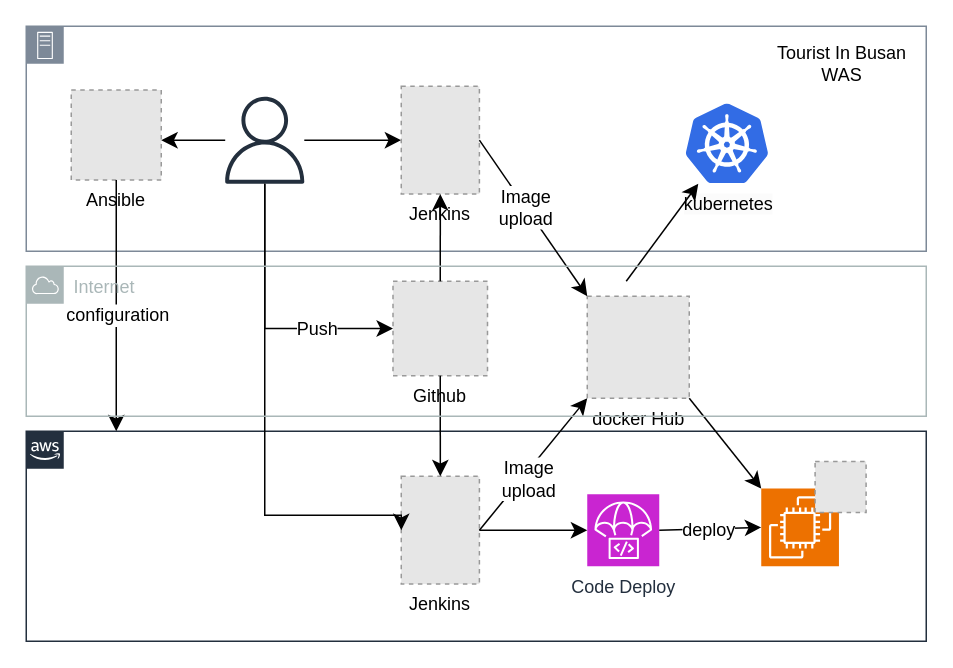
Image size: 953x668. Some labels were removed from this diagram. Grey dashed boxes stand in for pictures. The box of each missing label's shape, as (x1, y1, x2, y2) in pixels:
AWS Cloud: (25, 430, 926, 641)
On-Premises Server: (25, 25, 926, 251)
Spring-PetClinic EC2: (760, 487, 839, 566)
User: (220, 96, 308, 183)
